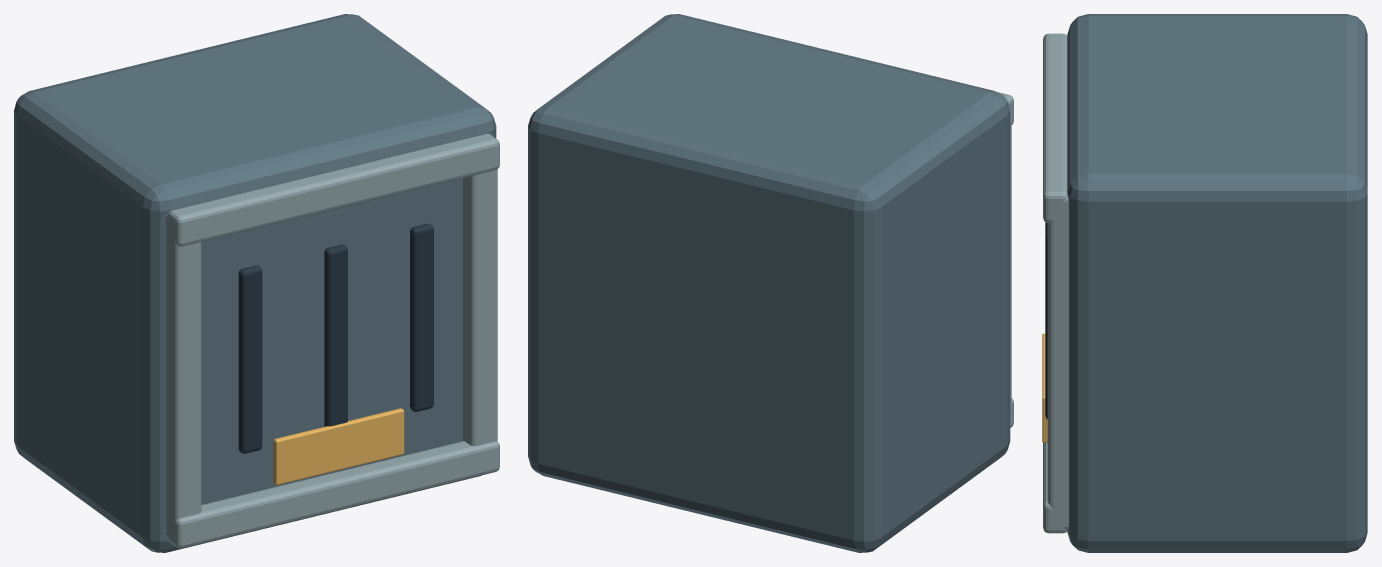
Rendered from SM_Crate.fbx.
3 renders of one model, left to right at view 1: azimuth 30°, elevation 25°; view 2: azimuth 150°, elevation 25°; view 3: azimuth 270°, elevation 25°, orthographic. The views are drawn at different scales.
Visible parts, largest first — view 1: SM_Crate; view 2: SM_Crate; view 3: SM_Crate.
Part boxes in pixels (x1,y1,x2,y2): SM_Crate: (14, 14, 499, 552); SM_Crate: (528, 14, 1013, 552); SM_Crate: (1042, 14, 1367, 552).
Bounding box in the file's own units: 90 × 70.45 × 90.
